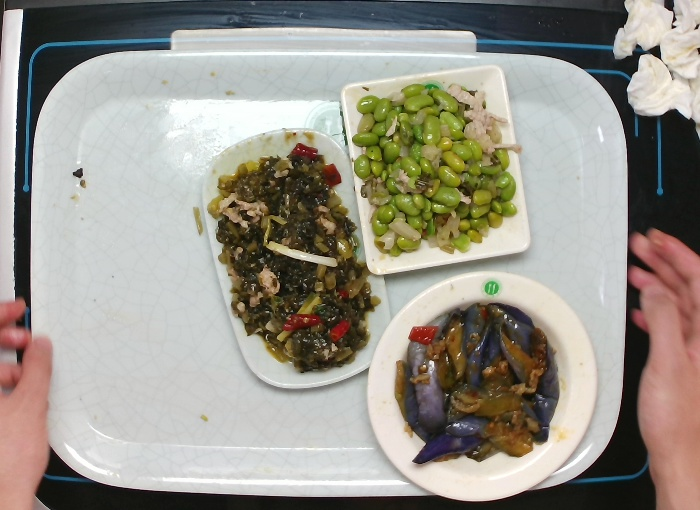WCQzf-Bai_Se_Si_Fang_Die: (335, 60, 537, 276)
WCQzf-Kuan_Bian_Yuan_Die: (362, 263, 604, 509)
WCQzf-Tuo_Yuan_Pan: (197, 121, 391, 390)
